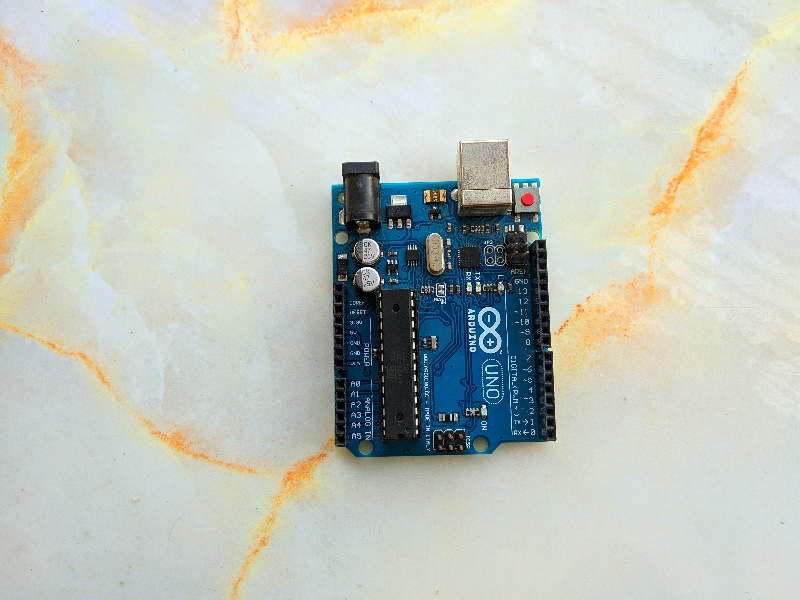Arduino UNO: (318, 128, 571, 480)
